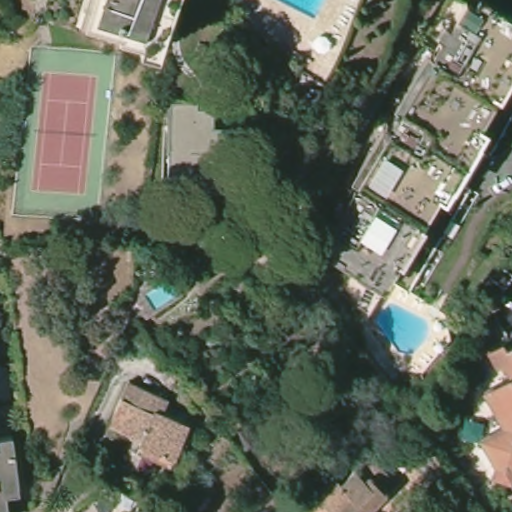pool: (379, 300, 429, 354), (275, 1, 333, 22), (143, 283, 184, 310)
